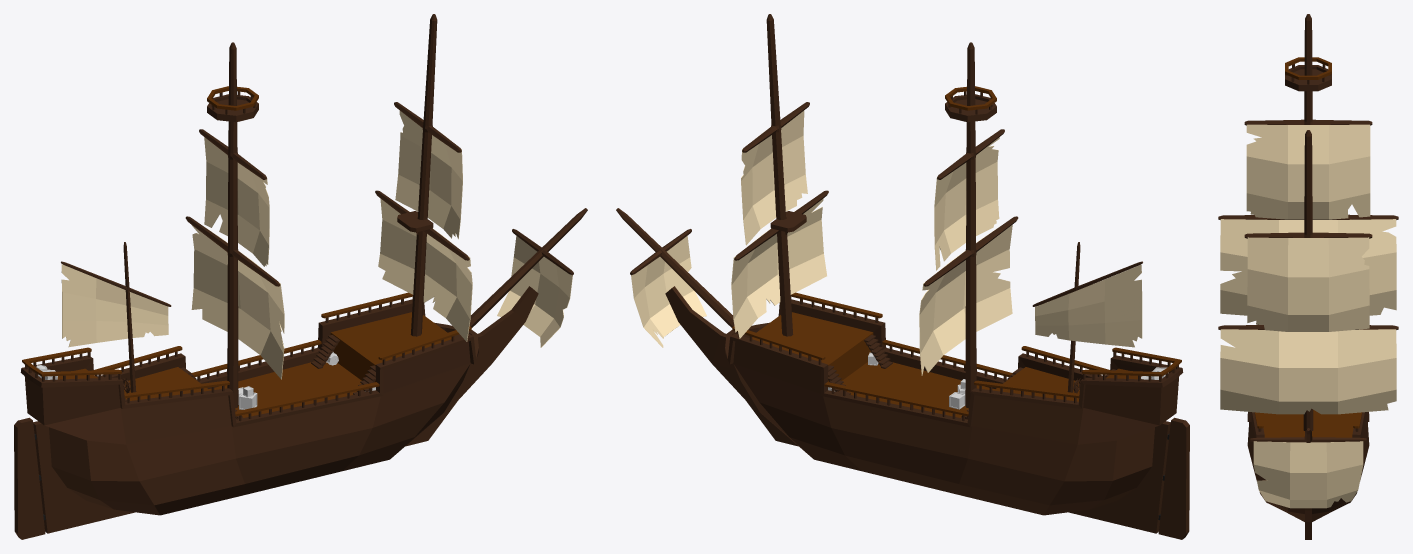
Rendered from Fluyt_Derfflinger_low_poly_after_join_cabin (1).fbx.
The picture shows the model from 3 angles, left to right: view 1: azimuth 30°, elevation 25°; view 2: azimuth 150°, elevation 25°; view 3: azimuth 270°, elevation 25°; orthographic projection. The views are drawn at different scales.
Visible parts, largest first — view 1: Cube.006, Cube.004; view 2: Cube.006, Cube.004; view 3: Cube.006, Cube.004, Cube.001.
Part boxes in pixels (box(x1,y1,x2,y2)): Cube.006: box(14, 14, 587, 539); Cube.004: box(207, 91, 258, 122); Cube.006: box(616, 14, 1189, 539); Cube.004: box(945, 91, 996, 122); Cube.006: box(1218, 14, 1398, 539); Cube.004: box(1285, 64, 1331, 91); Cube.001: box(1285, 57, 1331, 79).
Size of the model in its own units: 2581 by 6842 by 9222.
